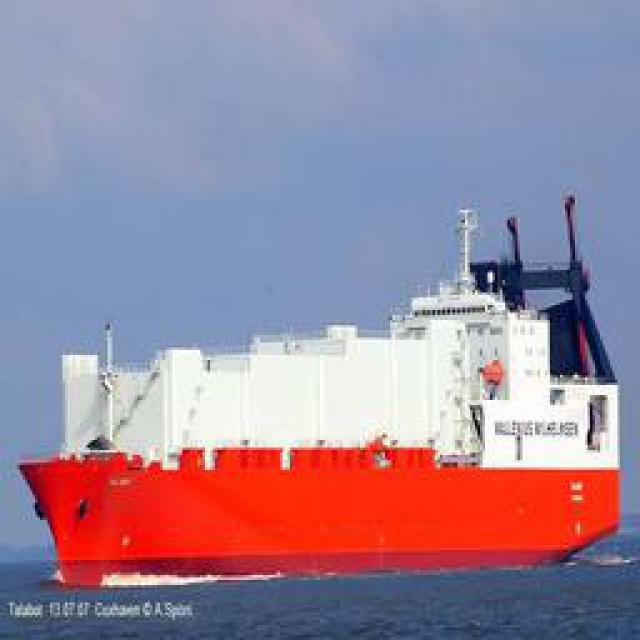Ship: (25, 186, 633, 576)
